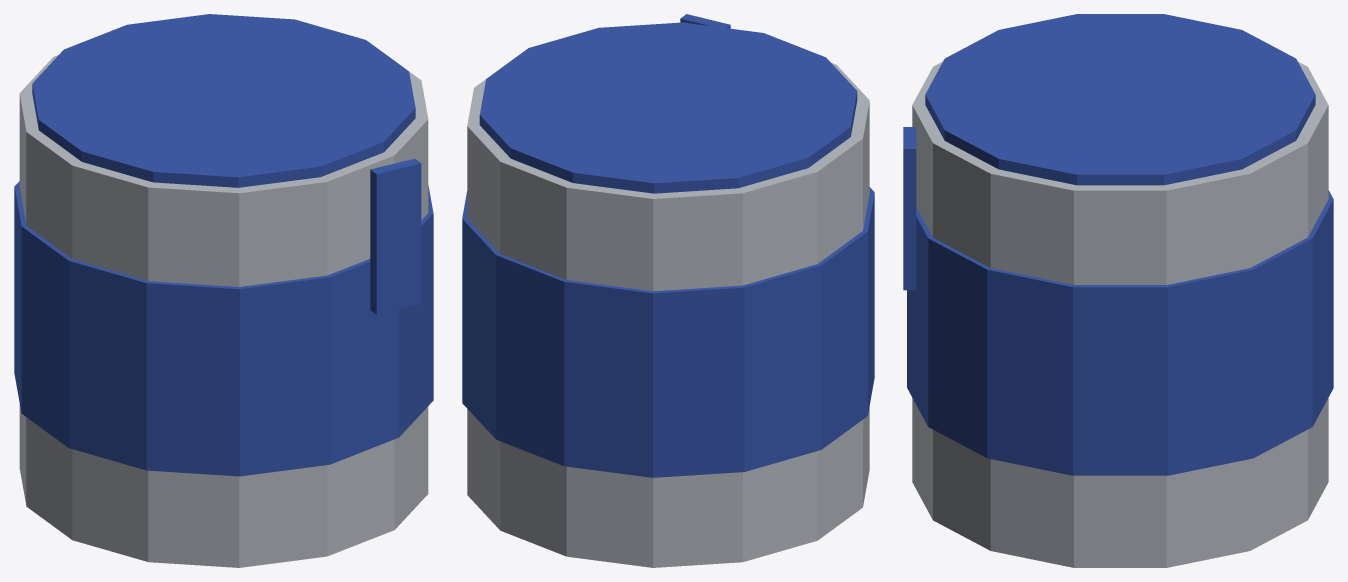
Rendered from gnome_paint.glb.
The picture shows the model from 3 angles, left to right: view 1: azimuth 30°, elevation 25°; view 2: azimuth 150°, elevation 25°; view 3: azimuth 270°, elevation 25°; orthographic projection. The views are drawn at different scales.
Visible parts, largest first — view 1: label_paint_green, tin_paint_tin, lid_paint_green, drip_paint_green; view 2: label_paint_green, tin_paint_tin, lid_paint_green; view 3: tin_paint_tin, label_paint_green, lid_paint_green, drip_paint_green.
Part boxes in pixels (x1,y1,x2,y2): label_paint_green: (14,181,433,476); tin_paint_tin: (19,51,428,567); lid_paint_green: (32,14,415,187); drip_paint_green: (370,158,421,314); label_paint_green: (462,187,874,477); tin_paint_tin: (467,62,869,567); lid_paint_green: (479,22,857,193); tin_paint_tin: (912,61,1328,567); label_paint_green: (907,190,1333,475); lid_paint_green: (925,14,1315,185); drip_paint_green: (903,127,916,290).
Size of the model in its own units: 0.1599 by 0.1645 by 0.1655.
